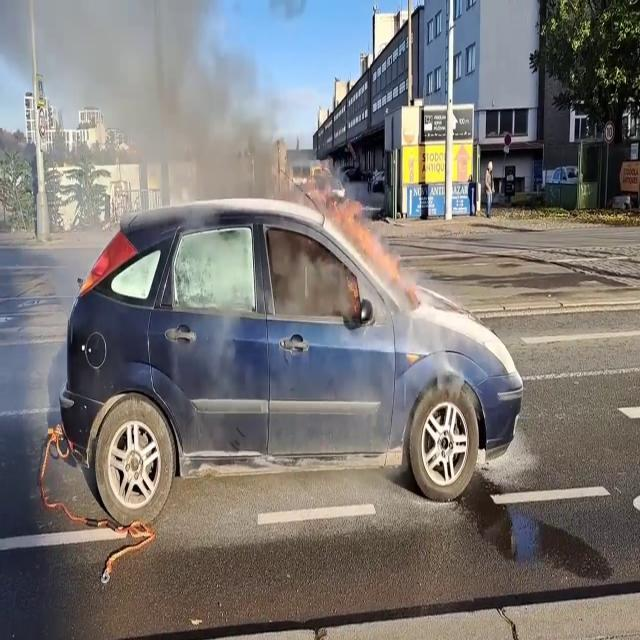Smoke: (39, 0, 300, 211)
